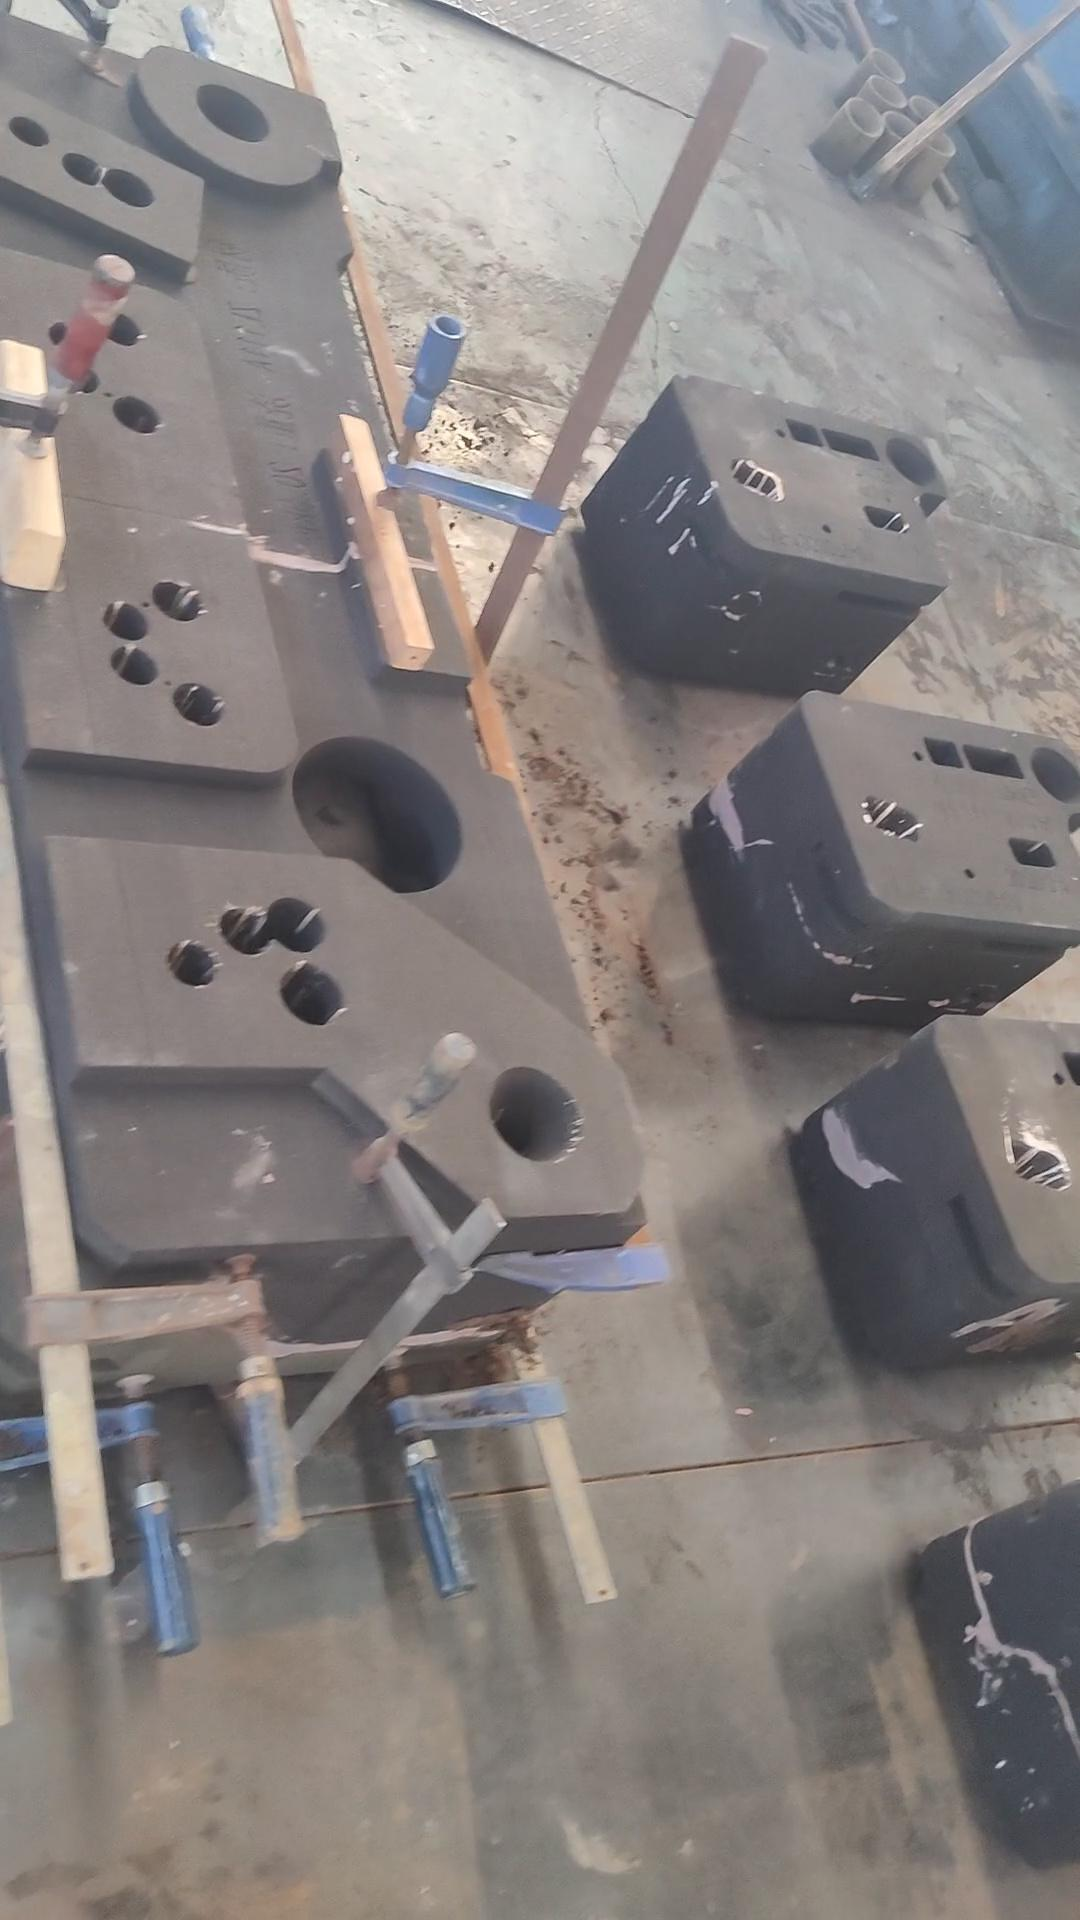pouring hole: (491, 1064, 582, 1163), (195, 84, 270, 142), (1033, 746, 1080, 803), (886, 435, 936, 487), (872, 47, 906, 84), (849, 98, 882, 135), (869, 76, 906, 108), (913, 98, 948, 124), (919, 127, 952, 154), (887, 112, 916, 142)
